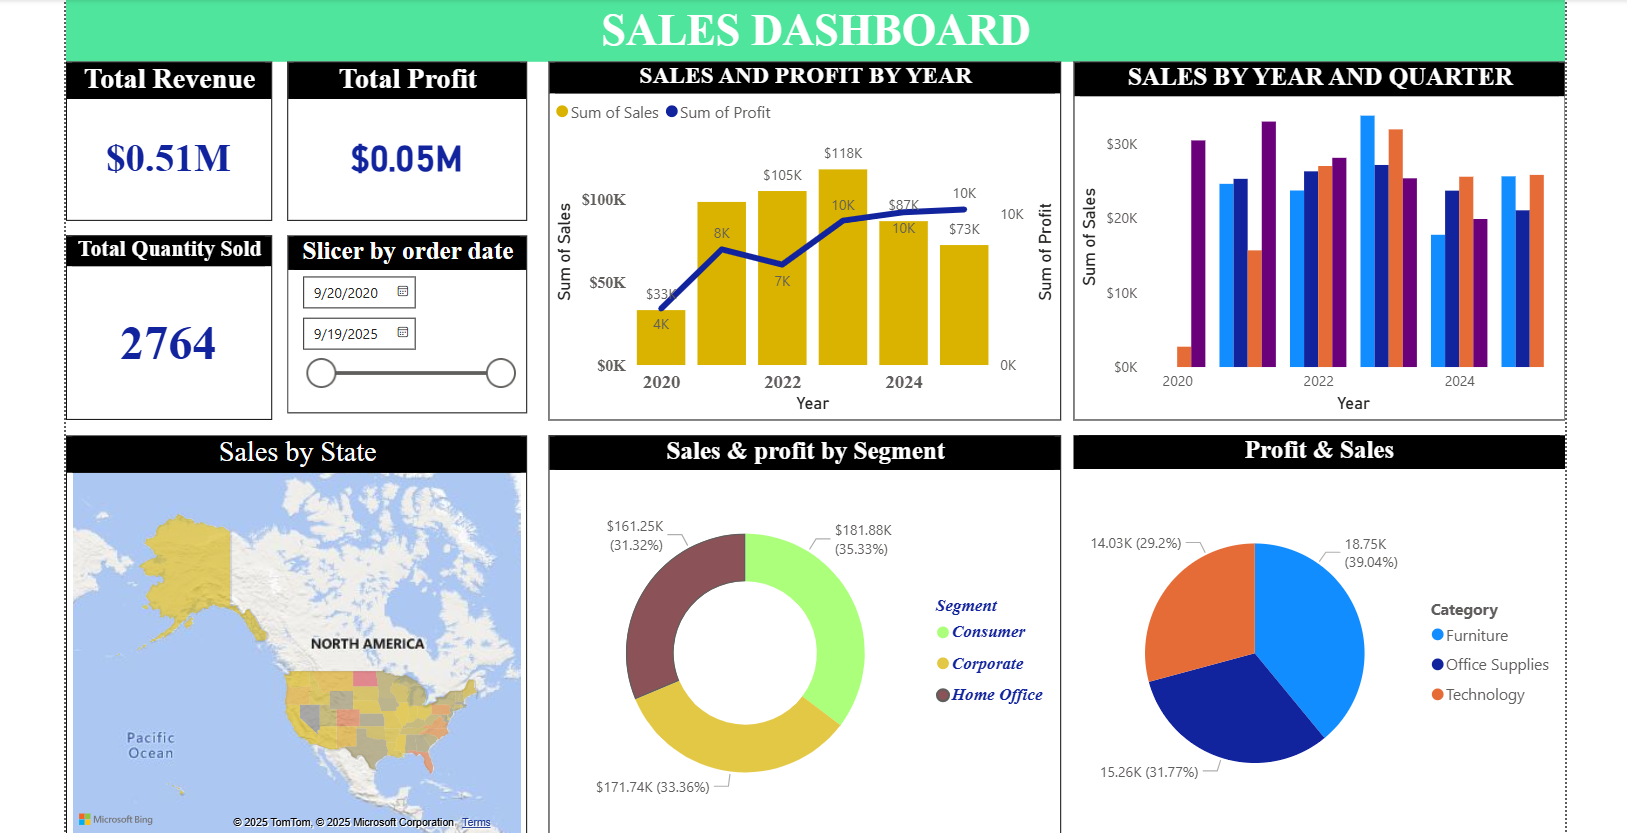

This screenshot's page, from the dashboard's own definition file:
{"tool":"powerbi","page":{"name":"Overall Sales","canvas":[1280,720],"ordinal":0},"visuals":[{"type":"textbox","box":[0,0,1280.3,53.5],"z":0},{"type":"card","title":"Total Revenue","fields":{"Values":["Sum(superstore_dataset.Sales)"]},"box":[0,53.5,175.6,135.8],"z":1000},{"type":"card","title":"Total Quantity Sold","fields":{"Values":["Sum(superstore_dataset.Quantity)"]},"box":[0,201.7,175.6,157.8],"z":2000},{"type":"card","title":"Total Profit","fields":{"Values":["Sum(superstore_dataset.Profit)"]},"box":[189.4,53.5,204.5,135.8],"z":3000},{"type":"slicer","title":"Slicer by order date","fields":{"Values":["superstore_dataset.Order Date"]},"box":[189.4,201.7,204.5,152.3],"z":4000},{"type":"lineStackedColumnComboChart","title":"SALES AND PROFIT BY YEAR","fields":{"Y":["Sum(superstore_dataset.Sales)"],"Y2":["Sum(superstore_dataset.Profit)"],"Category":["superstore_dataset.Order Date.Variation.Date Hierarchy.Year"]},"box":[411.7,53.5,437.7,306],"z":5000},{"type":"clusteredColumnChart","title":"SALES BY YEAR AND QUARTER","fields":{"Category":["superstore_dataset.Year"],"Y":["Sum(superstore_dataset.Sales)"],"Series":["superstore_dataset.Quarter"]},"box":[860.4,53.5,419.9,306],"z":6000},{"type":"filledMap","title":"Sales by State","fields":{"Category":["superstore_dataset.State"]},"box":[0,371.9,393.8,348.5],"z":7000},{"type":"donutChart","title":"Sales & profit by Segment","fields":{"Category":["superstore_dataset.Segment"],"Y":["Sum(superstore_dataset.Sales)"]},"box":[411.7,371.9,437.7,348.5],"z":8000},{"type":"pieChart","title":"Profit & Sales","fields":{"Category":["superstore_dataset.Category"],"Y":["Sum(superstore_dataset.Profit)"]},"box":[860.4,371.9,419.9,348.5],"z":9000}]}

Visuals, with their boxes on the page's 1280x720 design canvas (x1, y1, x2, y2). These are canvas units, not pixel positions in the 1627x833 screenshot, which may show the page scaled, cropped or inside an application window:
textbox: 0:0:1280:54
"Total Revenue" card: 0:54:176:189
"Total Quantity Sold" card: 0:202:176:360
"Total Profit" card: 189:54:394:189
"Slicer by order date" slicer: 189:202:394:354
"SALES AND PROFIT BY YEAR" lineStackedColumnComboChart: 412:54:849:360
"SALES BY YEAR AND QUARTER" clusteredColumnChart: 860:54:1280:360
"Sales by State" filledMap: 0:372:394:720
"Sales & profit by Segment" donutChart: 412:372:849:720
"Profit & Sales" pieChart: 860:372:1280:720
